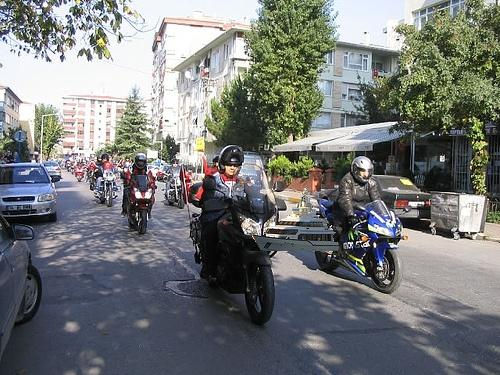tampered: (253, 186, 339, 251)
